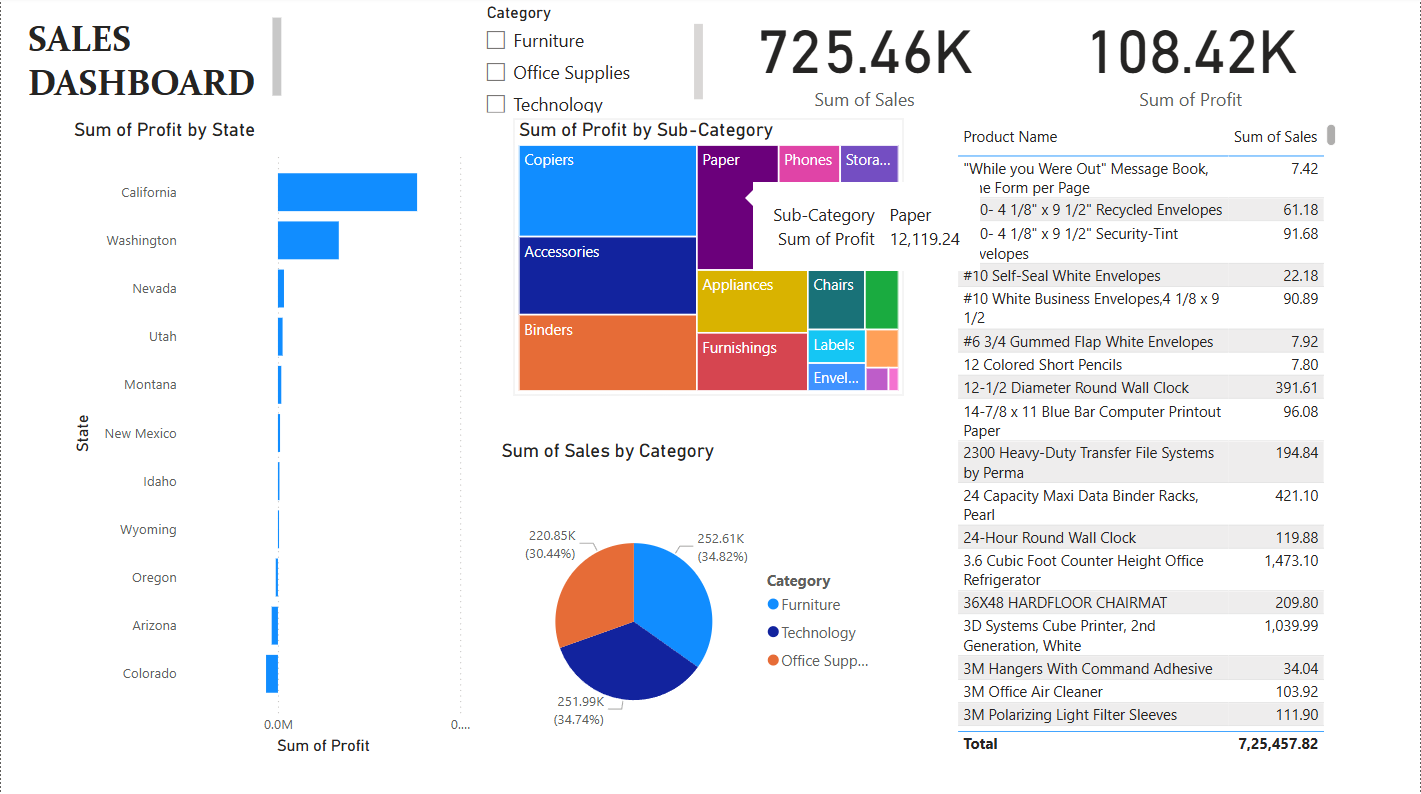

What the dashboard file says about the page in this screenshot:
{"tool":"powerbi","page":{"name":"Page 1","canvas":[1280,720],"ordinal":0},"visuals":[{"type":"barChart","fields":{"Category":["Walmart.State"],"Y":["Sum(Walmart.Profit)"]},"box":[61.1,110,367.9,578.2],"z":0},{"type":"treemap","fields":{"Group":["Walmart.Sub-Category"],"Values":["Sum(Walmart.Profit)"]},"box":[462.1,110,352.1,250.6],"z":1000},{"type":"pieChart","fields":{"Category":["Walmart.Category"],"Y":["Sum(Walmart.Sales)"]},"box":[446.2,399.7,352.1,309.3],"z":2000},{"type":"tableEx","fields":{"Values":["Walmart.Product Name","Sum(Walmart.Sales)"]},"box":[856.9,110,352.1,578.2],"z":3000},{"type":"card","fields":{"Values":["Sum(Walmart.Sales)"]},"box":[622.2,0,313.1,108.2],"z":4000},{"type":"card","fields":{"Values":["Sum(Walmart.Profit)"]},"box":[935.3,0,274.4,108.2],"z":5000},{"type":"slicer","fields":{"Values":["Walmart.Category"]},"box":[425.4,1.2,212.7,108.8],"z":6000},{"type":"textbox","box":[19.6,14.7,238.4,84.3],"z":7000}]}

Visuals, with their boxes in screenshot pixels (x1, y1, x2, y2), scaled from the page's 1280x720 canvas onto the 1421x794 screenshot:
barChart - Walmart.State x Sum(Walmart.Profit): 68:121:476:759
treemap - Walmart.Sub-Category x Sum(Walmart.Profit): 513:121:904:398
pieChart - Walmart.Category x Sum(Walmart.Sales): 495:441:886:782
tableEx - Walmart.Product Name x Sum(Walmart.Sales): 951:121:1342:759
card - Sum(Walmart.Sales): 691:0:1038:119
card - Sum(Walmart.Profit): 1038:0:1343:119
slicer - Walmart.Category: 472:1:708:121
textbox: 22:16:286:109
